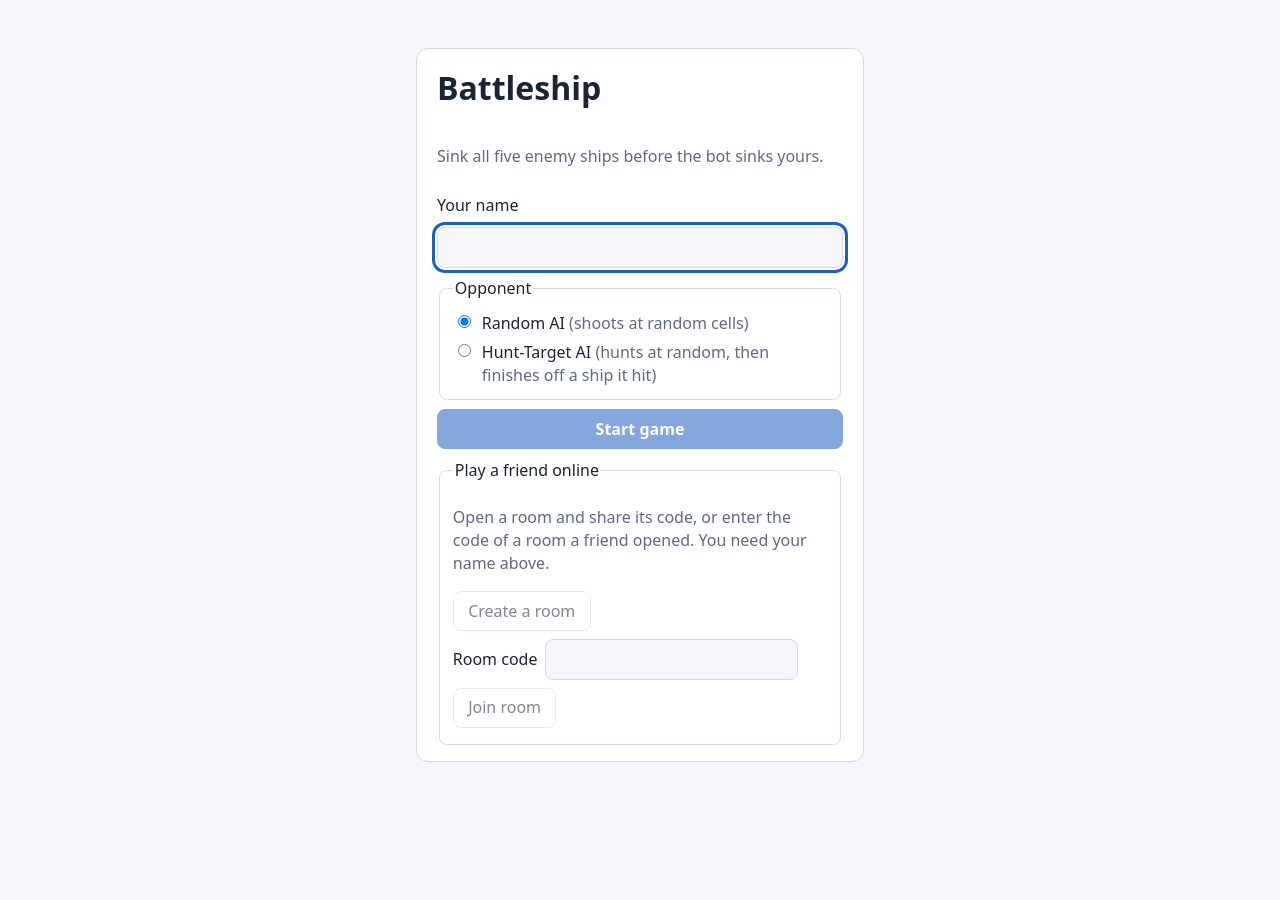
Test case: App › stays on the start screen with a message when the server cannot be reached
In the field labelled "Your name": (640, 247) [437, 226, 843, 268], type "Ann"
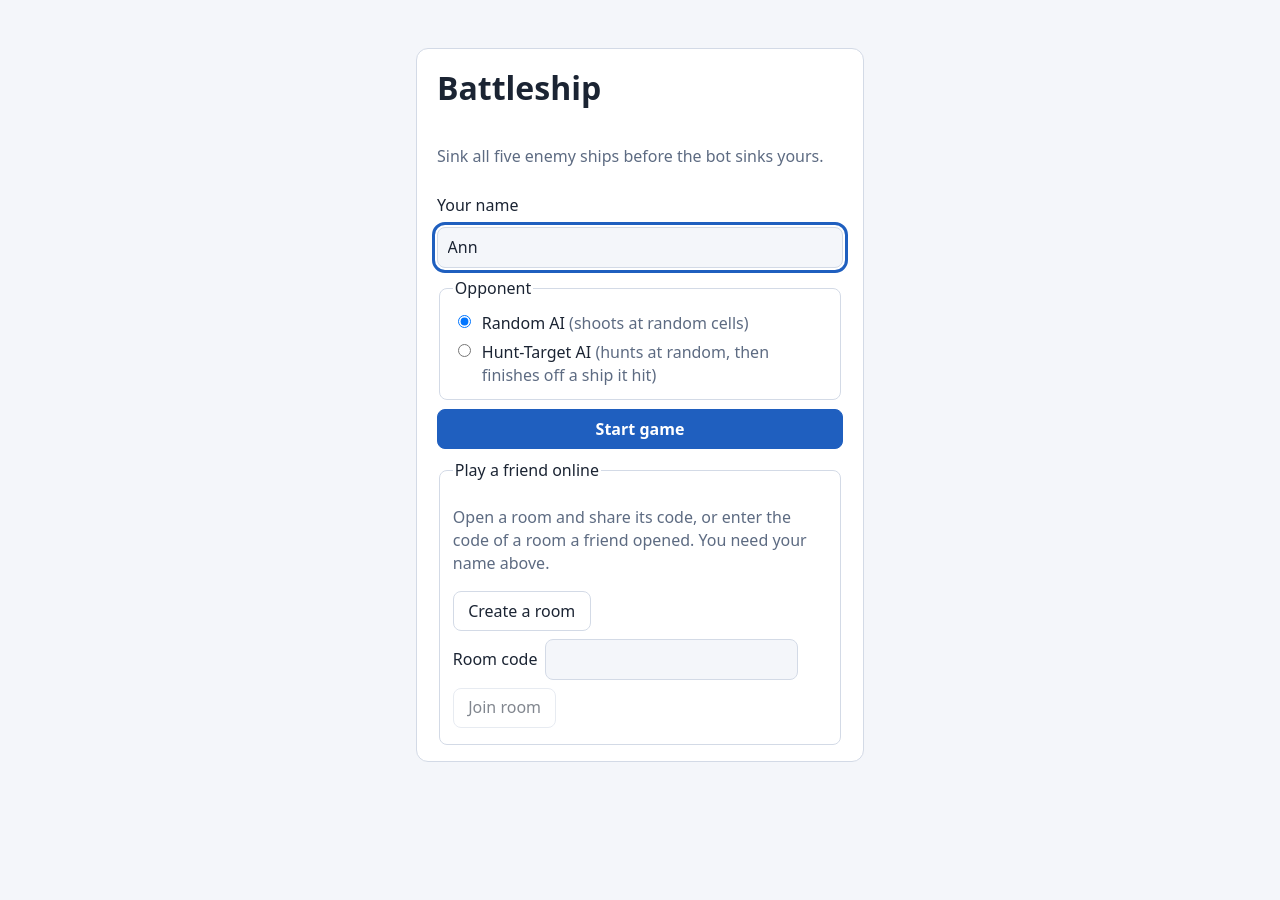
Click the button "Start game": (640, 429) [437, 409, 843, 449]
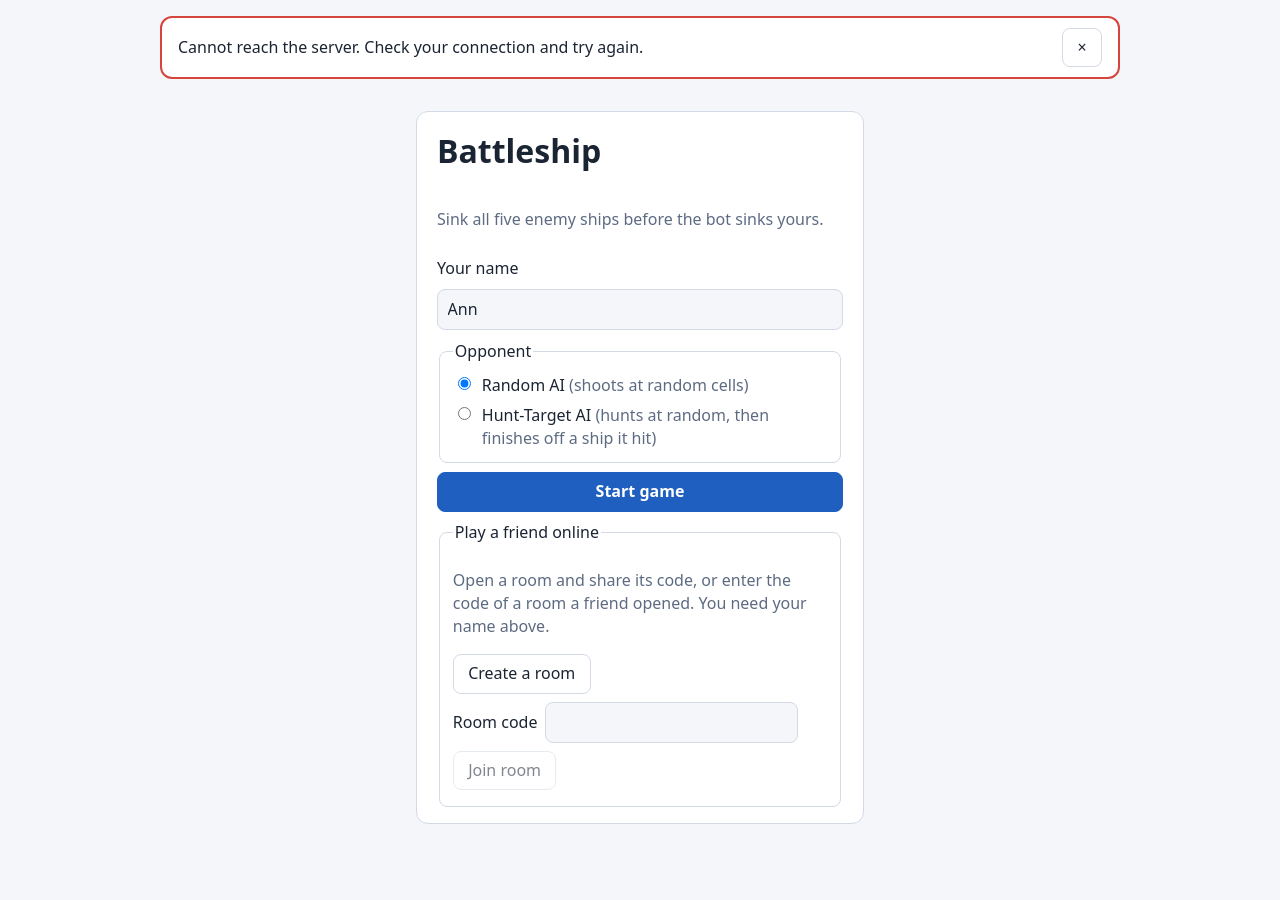
Now the message shows "Cannot reach the server", box [178, 36, 643, 58]
